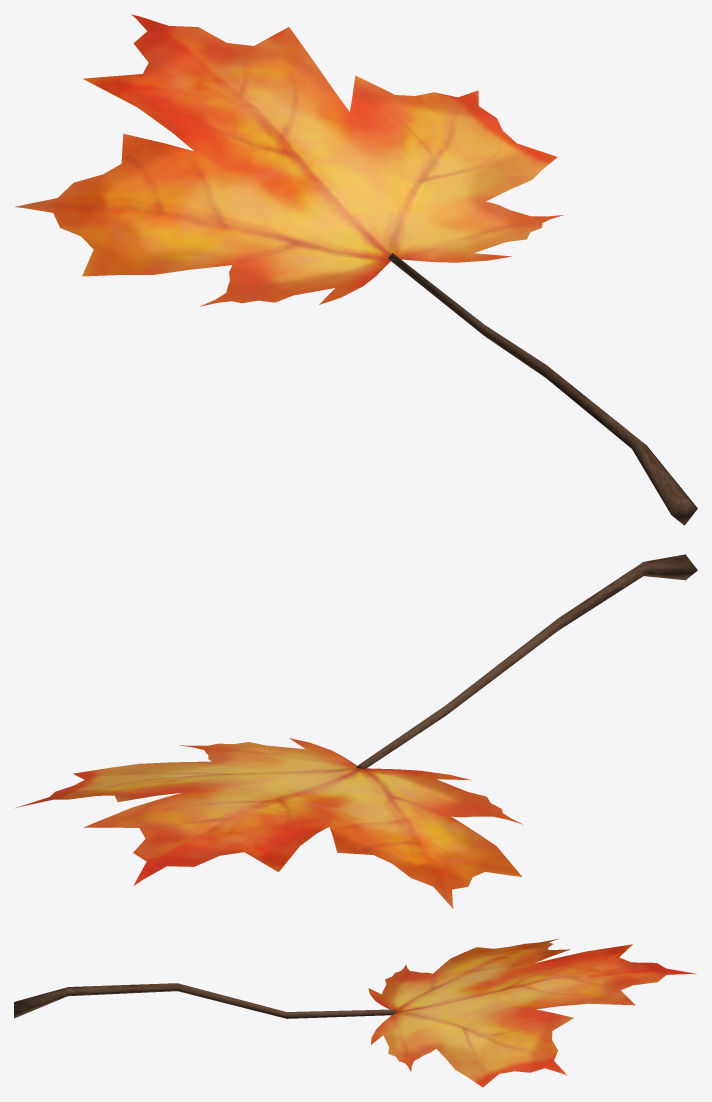
The model's file is maple.gltf.
3 renders of one model, top to bottom at view 1: azimuth 30°, elevation 25°; view 2: azimuth 150°, elevation 25°; view 3: azimuth 270°, elevation 25°, orthographic. The views are drawn at different scales.
Visible parts, largest first — view 1: pasted__Object_16, pasted__Object_18; view 2: pasted__Object_16, pasted__Object_18; view 3: pasted__Object_16, pasted__Object_18.
Part boxes in pixels (left/top/right/bottom): pasted__Object_16: left=15, top=14, right=563, bottom=306; pasted__Object_18: left=388, top=253, right=697, bottom=525; pasted__Object_16: left=15, top=738, right=523, bottom=908; pasted__Object_18: left=356, top=554, right=697, bottom=769; pasted__Object_16: left=368, top=938, right=696, bottom=1087; pasted__Object_18: left=14, top=983, right=396, bottom=1018.
Size of the model in its own units: 0.1521 by 0.0273 by 0.3152.
2 materials, 2 textured.
